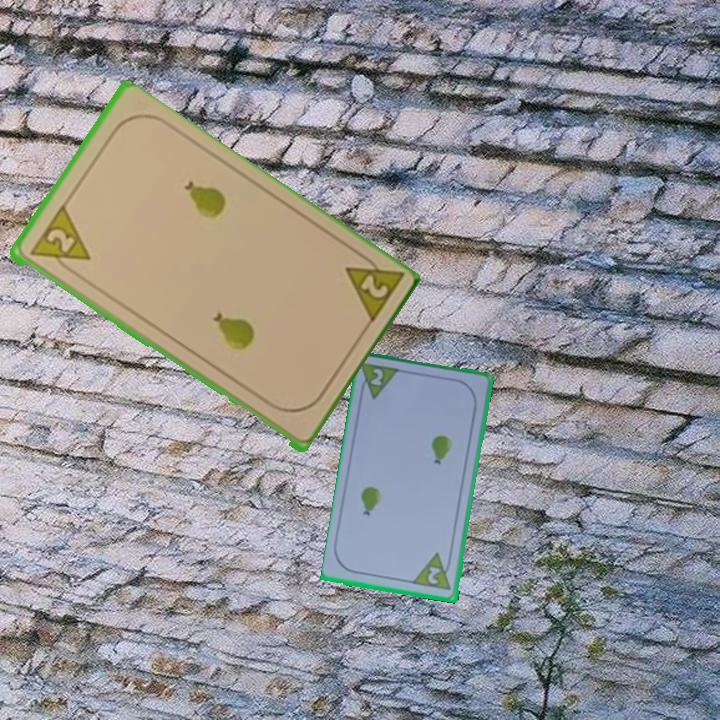2p: (340, 246, 406, 329), (26, 203, 93, 278), (411, 550, 455, 594), (367, 365, 387, 389)
